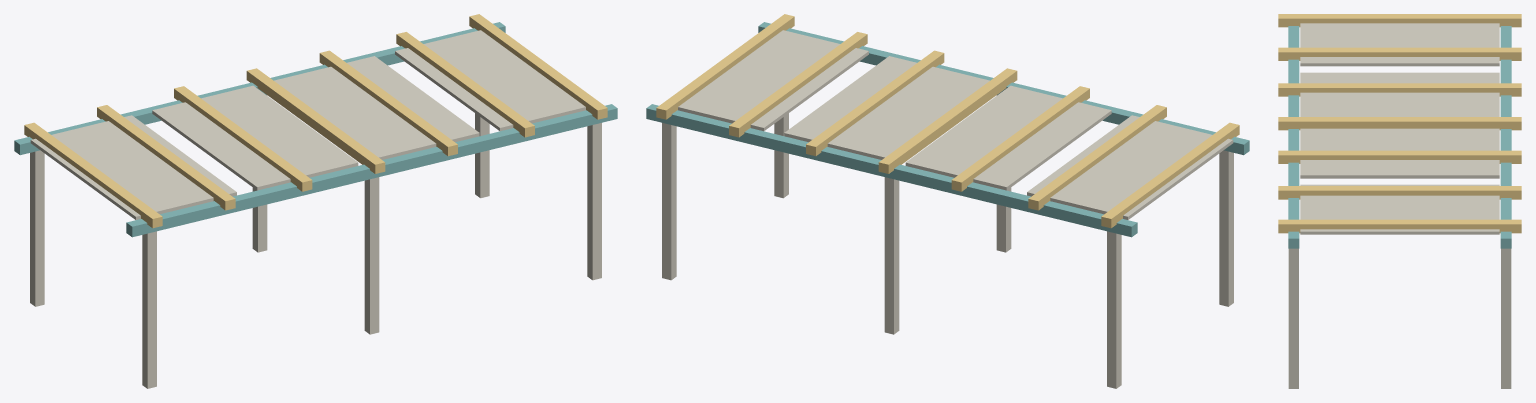
File: park-pergola.glb
The picture shows the model from 3 angles, left to right: view 1: azimuth 30°, elevation 25°; view 2: azimuth 150°, elevation 25°; view 3: azimuth 270°, elevation 25°; orthographic projection. The views are drawn at different scales.
Size of the model in its own units: 12 by 4.11 by 5.5.
